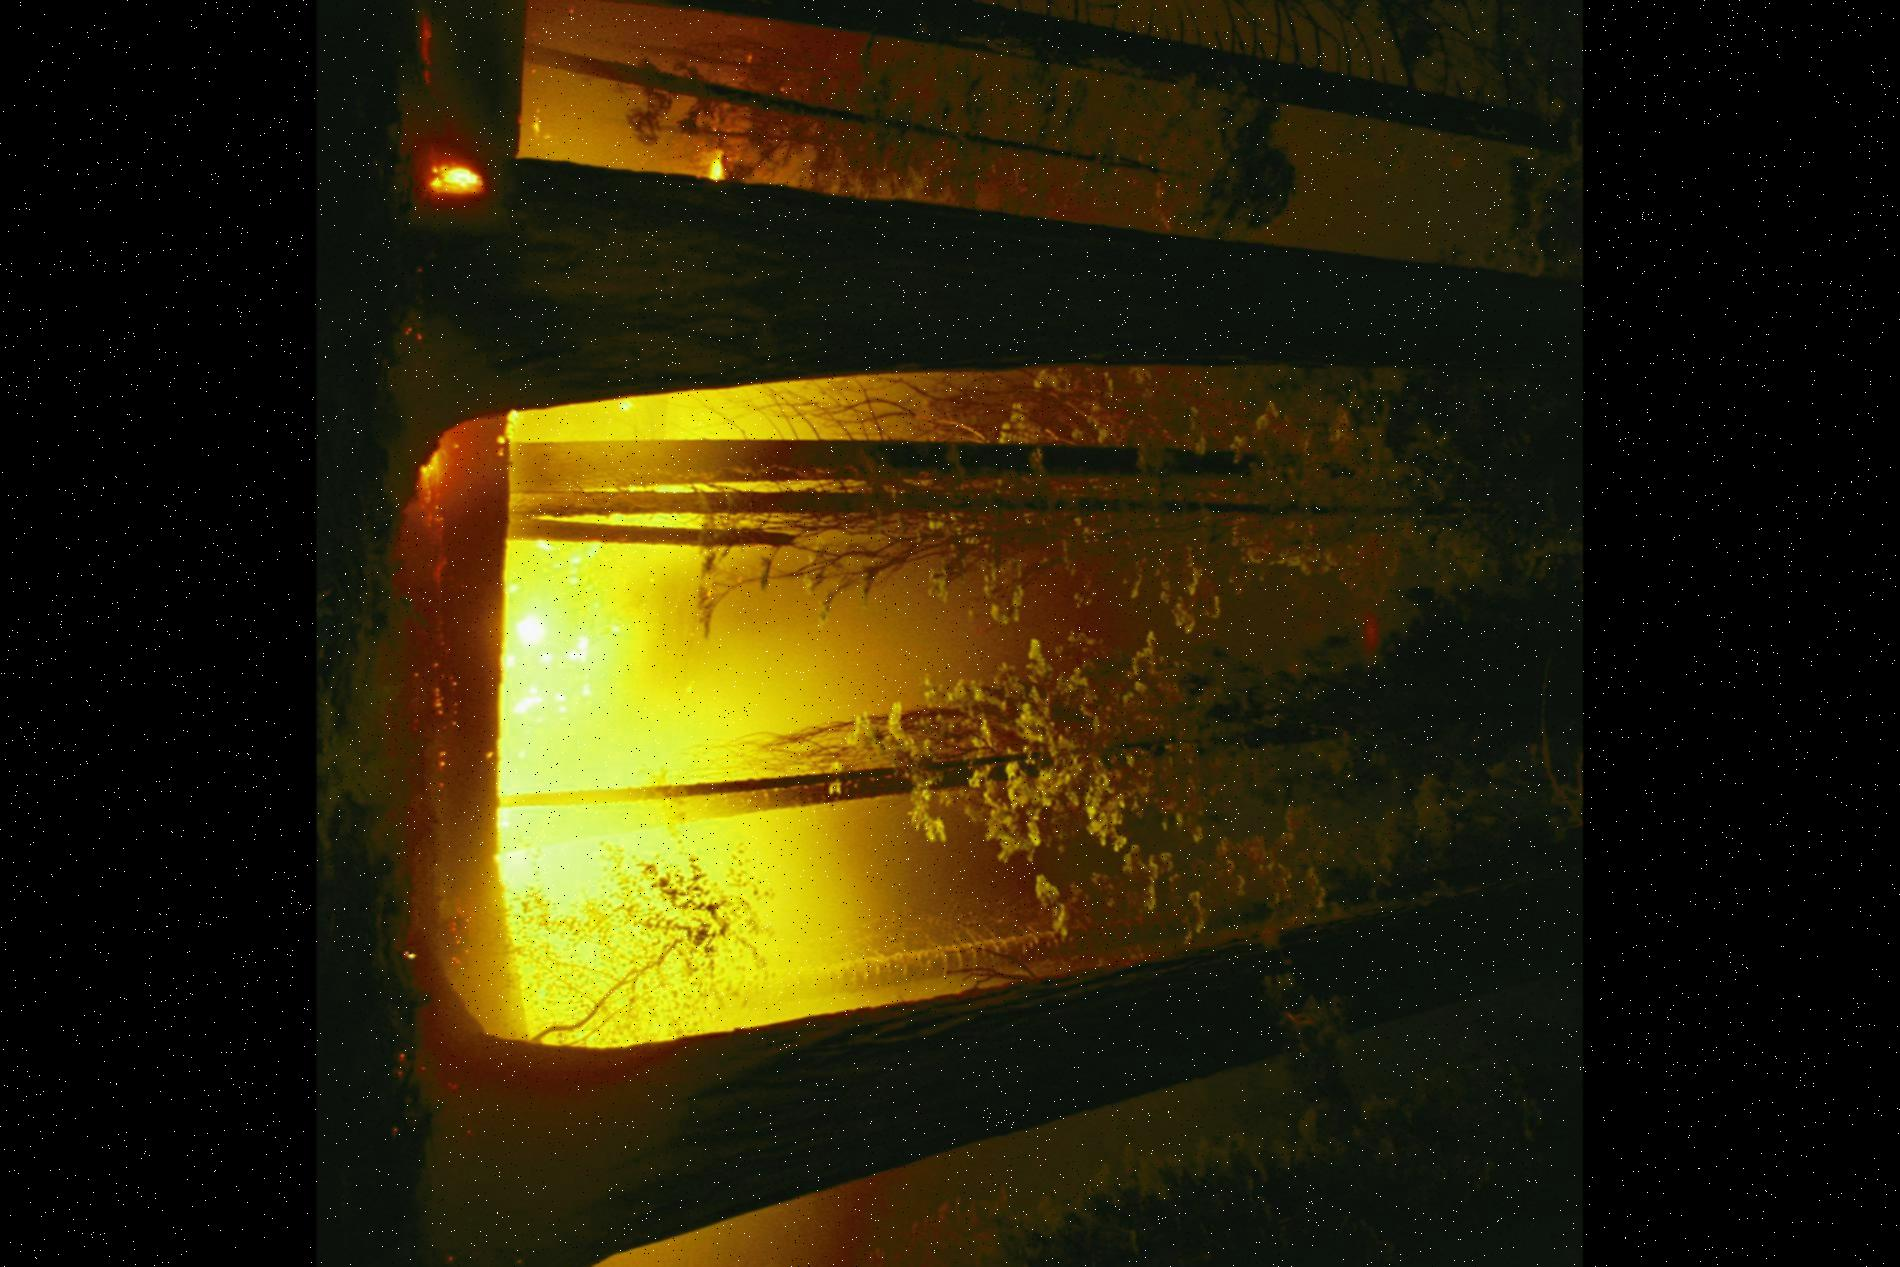fire: (375, 411, 868, 1018)
